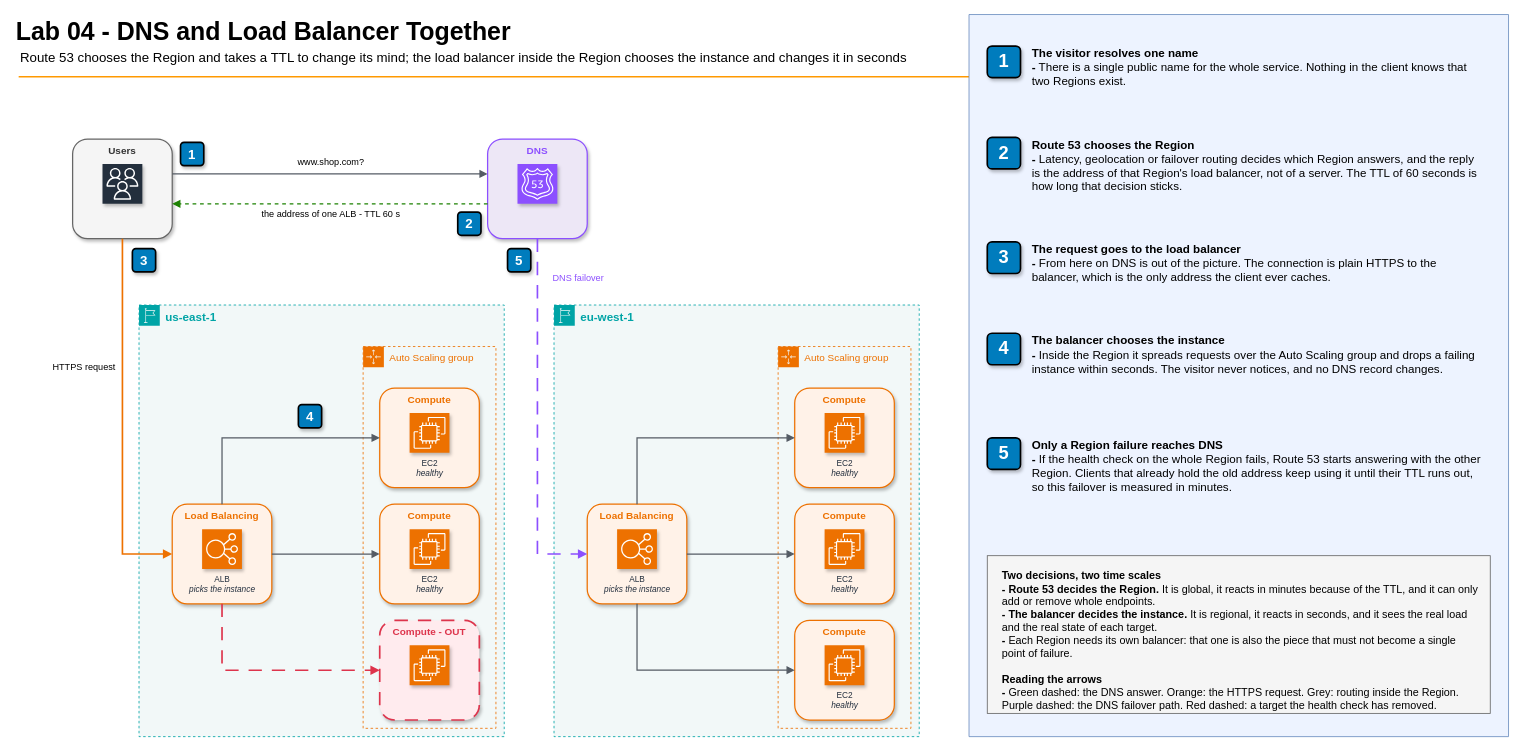
Image size: 1523x751. Some labels were removed from this diagram. The centre of each missing label's shape, as x and y in pixels:
"EC2 out of the pool" belongs at (x=429, y=666).
"Route 53 latency routing, TTL 60" belongs at (x=537, y=185).
"Visitor www.shop.com" belongs at (x=122, y=185).
